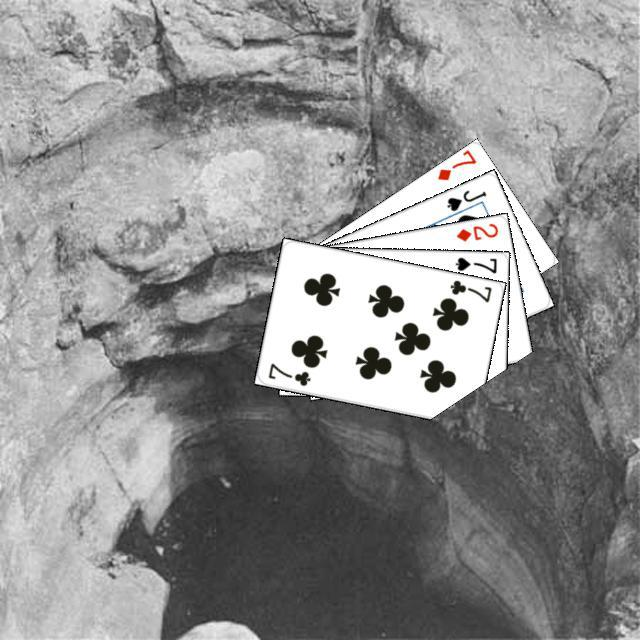2d: (451, 218, 500, 243)
7c: (263, 358, 312, 387), (445, 275, 493, 304)
7d: (432, 146, 478, 182)
7s: (450, 252, 498, 275)
Js: (442, 185, 488, 213)
